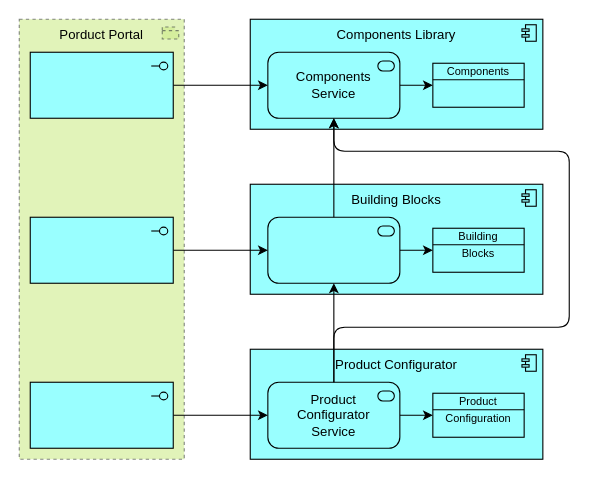
This 597x479 diagram has some shape labels left out. Here are the shapes that lost their labels. From the top down, the centre of each, then its label:
At pixel 101 84: "Components Library MicroFE".
At pixel 101 249: "Building Blocks MicroFE".
At pixel 333 249: "Building Blocks Service".
At pixel 101 414: "Product Configuration MicroFE".
